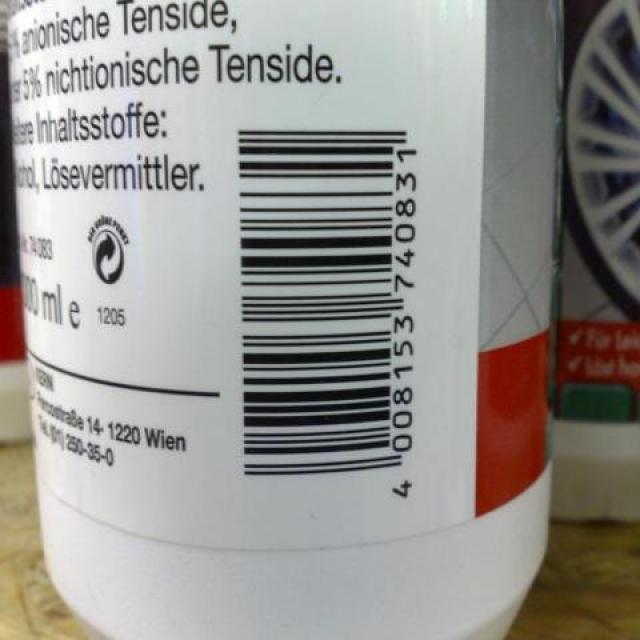Barcode: (223, 96, 429, 520)
